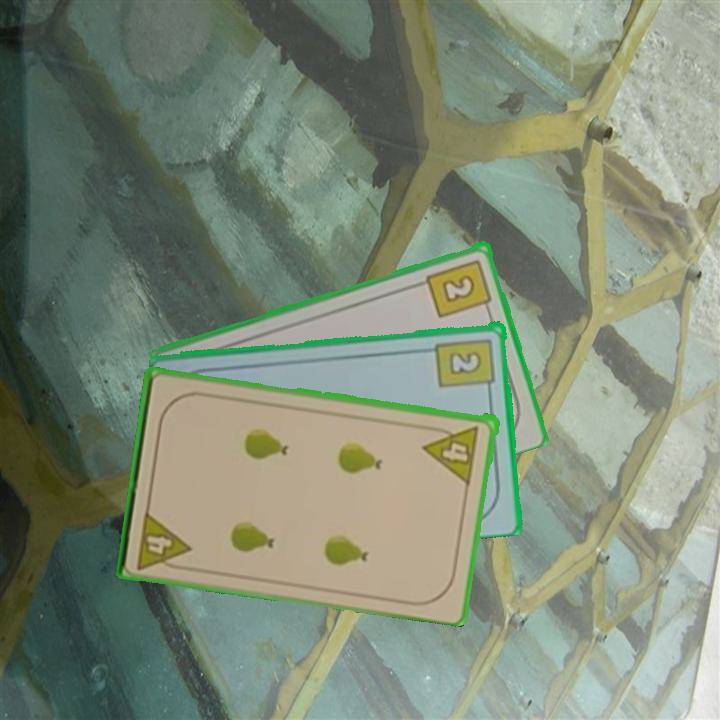2b: (423, 255, 495, 320), (433, 334, 498, 396)
4p: (133, 507, 195, 574), (421, 421, 482, 485)
